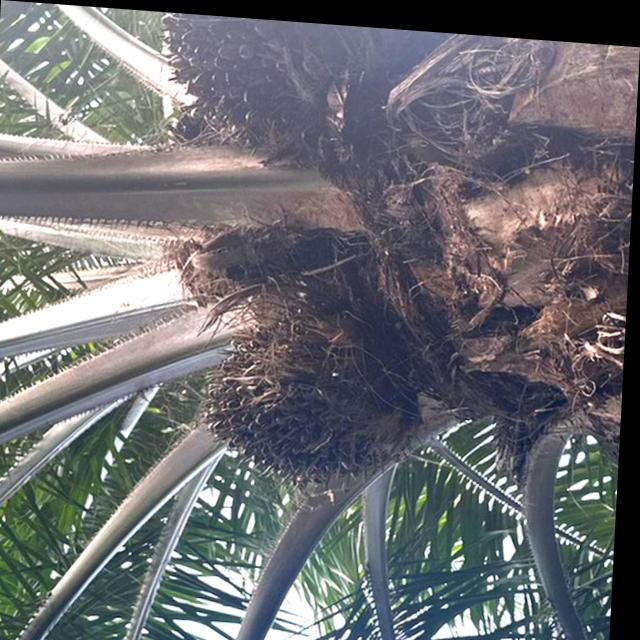unripe: (192, 296, 411, 499)
